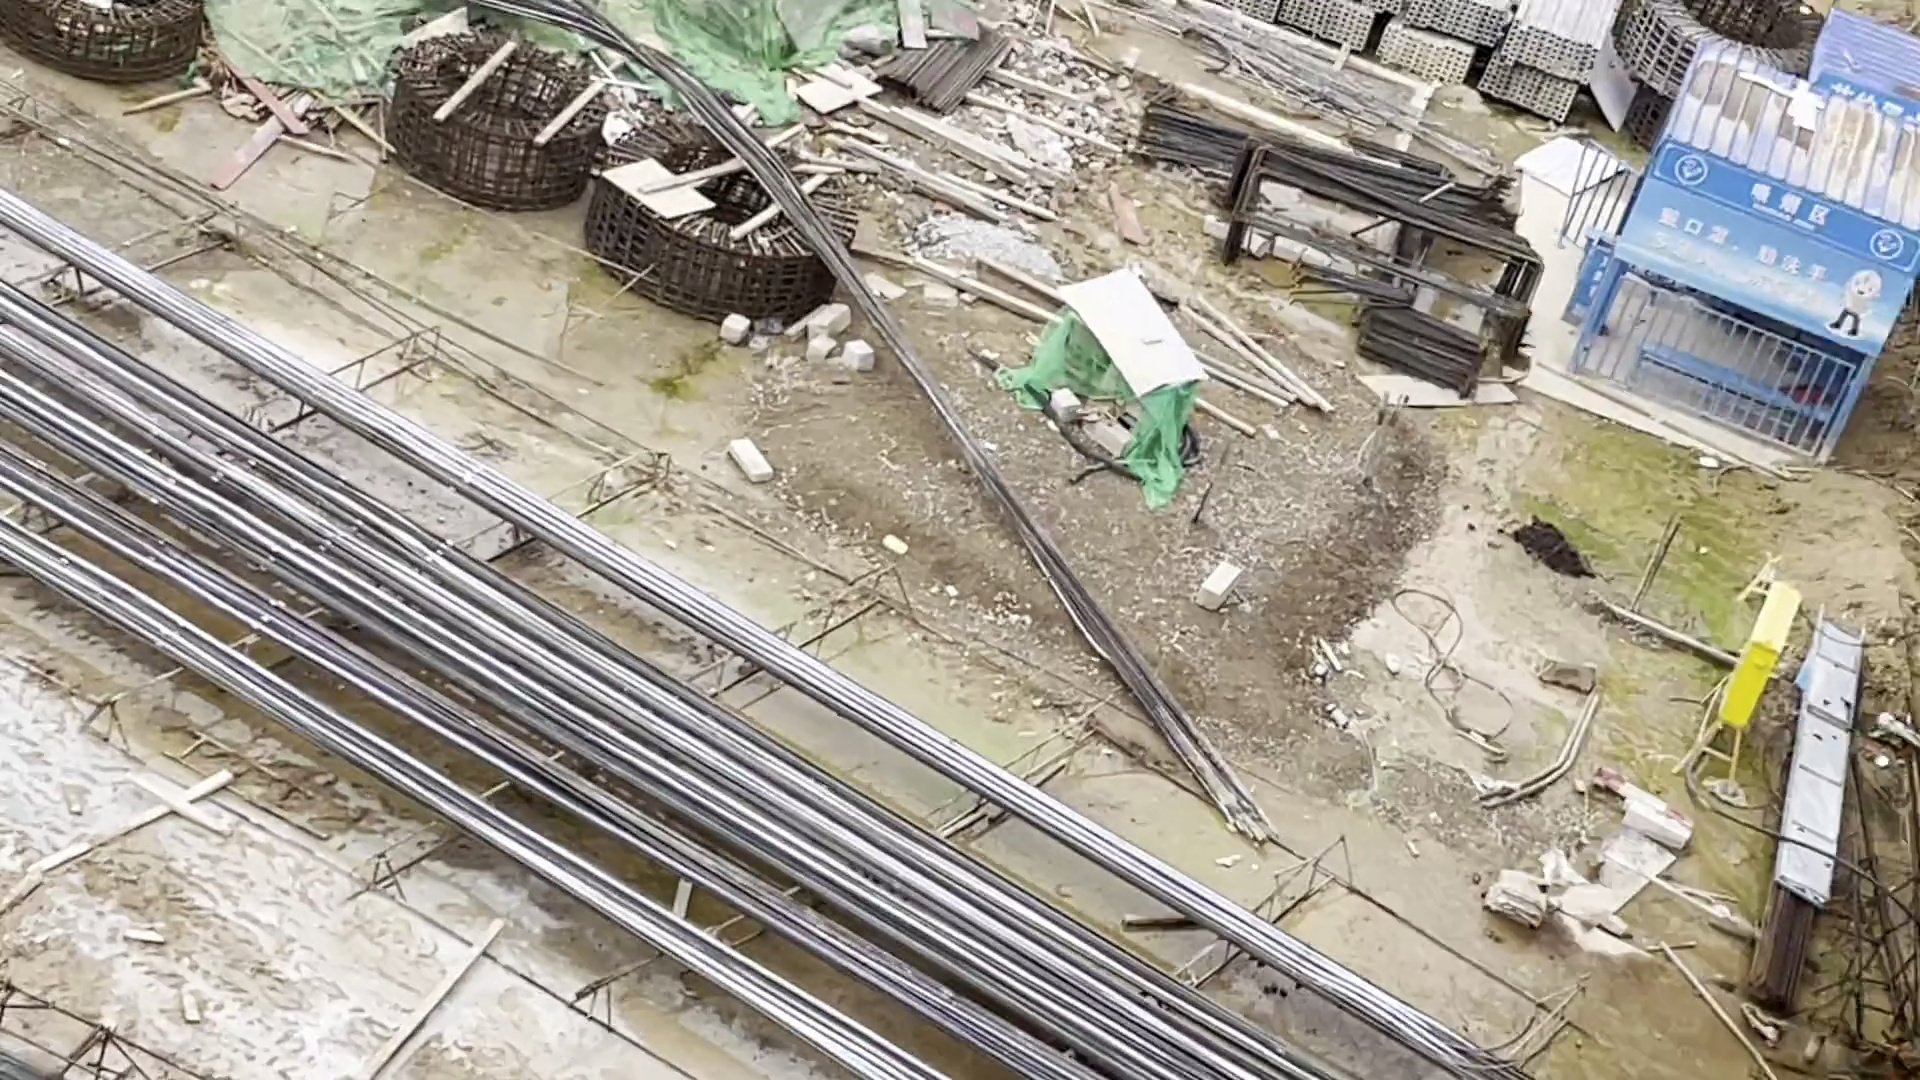ebox: (1714, 575, 1809, 767)
rebar: (655, 699, 1333, 1080), (66, 368, 633, 793)
scaffold: (1302, 1, 1598, 120)
slogan: (1636, 141, 1894, 351)
